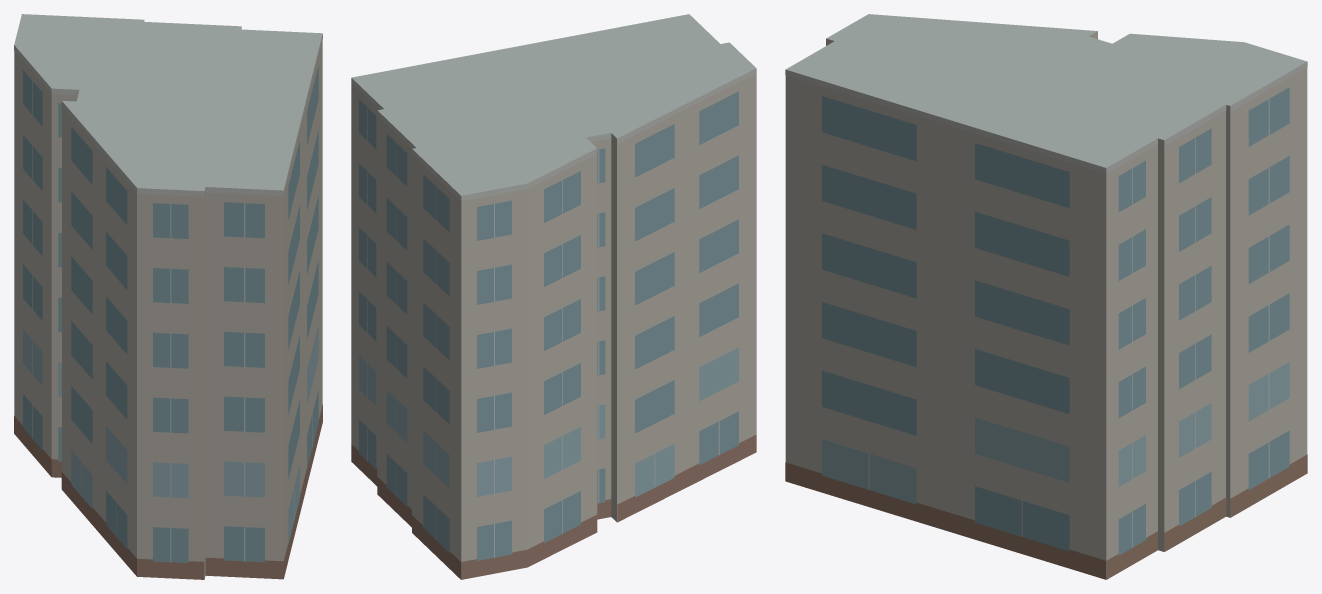
Rendered from survey-upis-32654008.glb.
3 renders of one model, left to right at view 1: azimuth 30°, elevation 25°; view 2: azimuth 150°, elevation 25°; view 3: azimuth 270°, elevation 25°, orthographic. The views are drawn at different scales.
Visible parts, largest first — view 1: survey-upis-32654008.tmp; view 2: survey-upis-32654008.tmp; view 3: survey-upis-32654008.tmp.
Boxes of the visible parts, <box> form: survey-upis-32654008.tmp: <box>14,14,322,579</box>; survey-upis-32654008.tmp: <box>351,14,756,579</box>; survey-upis-32654008.tmp: <box>785,14,1307,579</box>.
Size of the model in its own units: 13.8 by 17.2 by 19.77.
